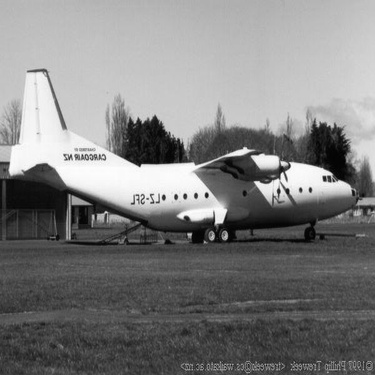airplane: (7, 55, 363, 248)
